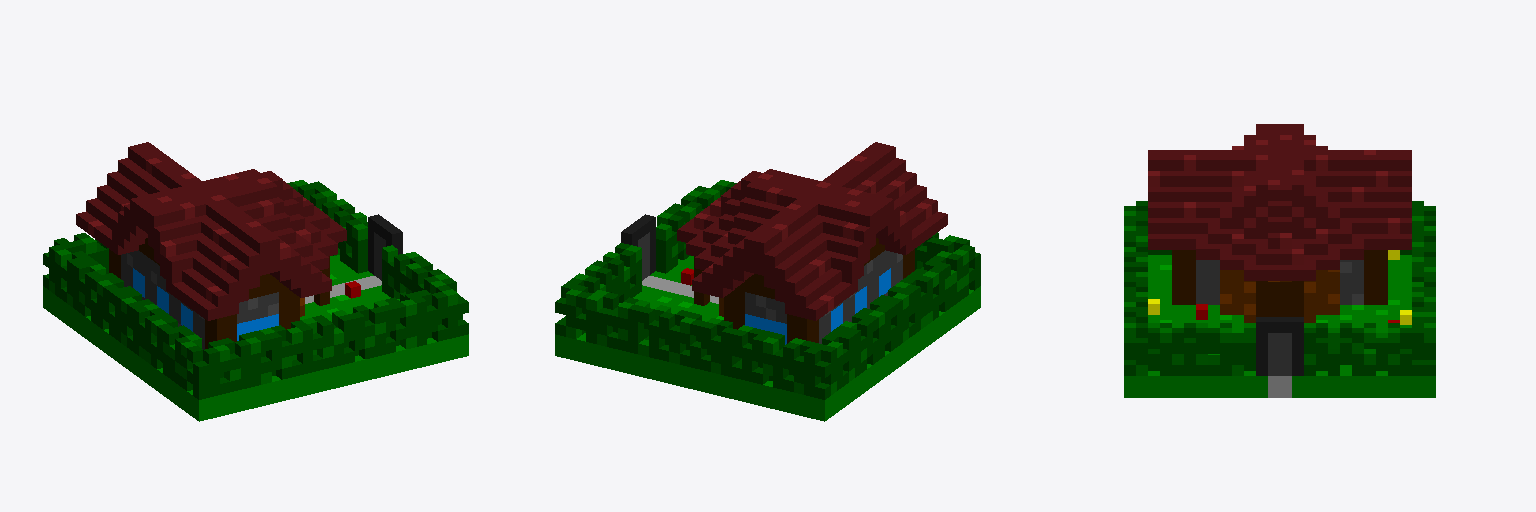
The picture shows the model from 3 angles: view 1: azimuth 30°, elevation 25°; view 2: azimuth 150°, elevation 25°; view 3: azimuth 270°, elevation 25°; orthographic projection.
Visible parts, largest first — view 1: object 1; view 2: object 1; view 3: object 1.
Boxes of the visible parts, box(x1,y1,x2,y2) form: object 1: box(43, 142, 468, 421); object 1: box(555, 142, 980, 421); object 1: box(1124, 124, 1435, 397).
Bounding box in the file's own units: 2.6 × 1.4 × 2.6.
Materials: 1 (1 with a texture image).